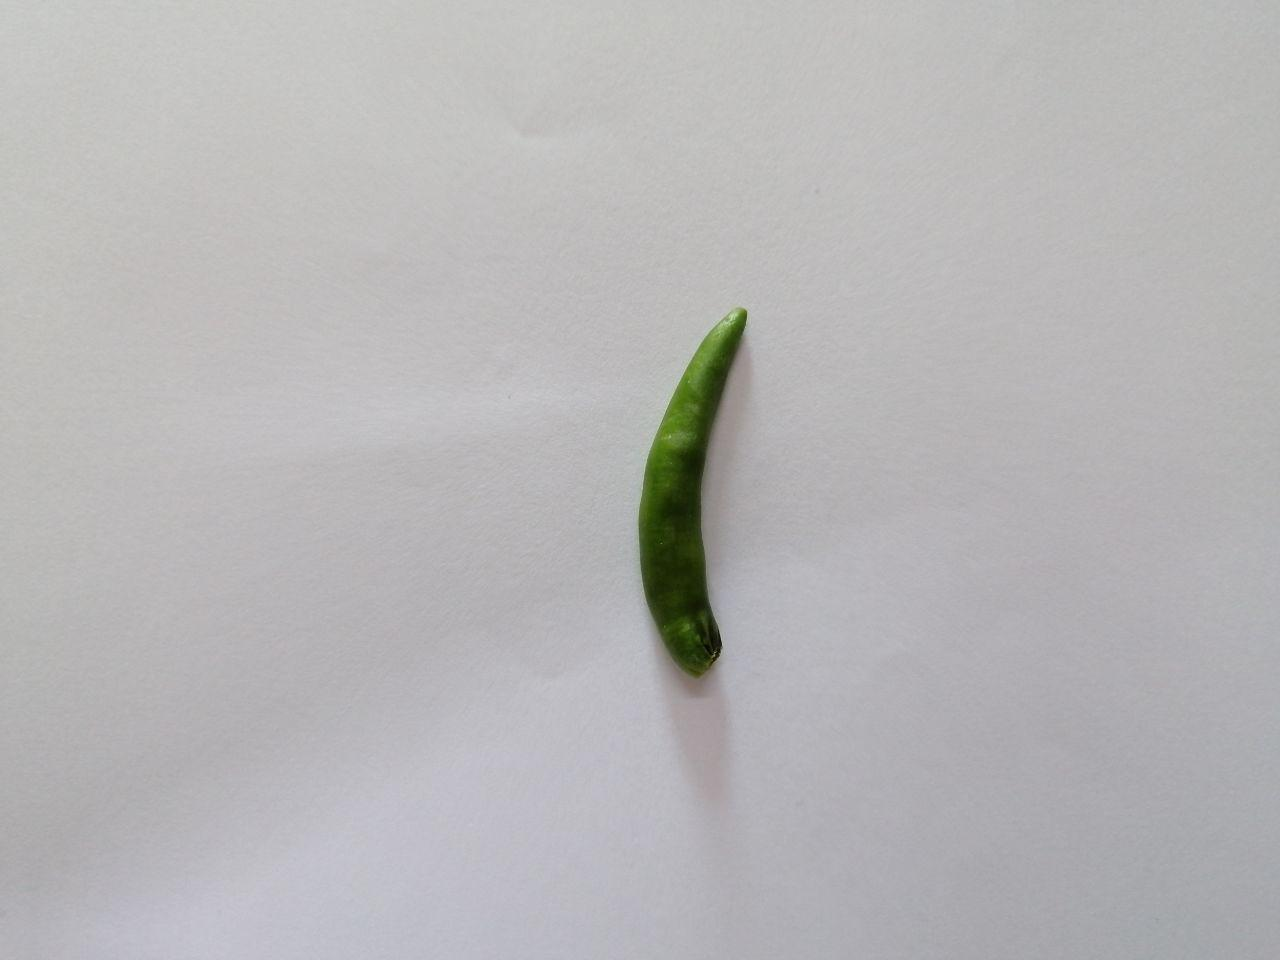lada hijau: (619, 272, 790, 709)
